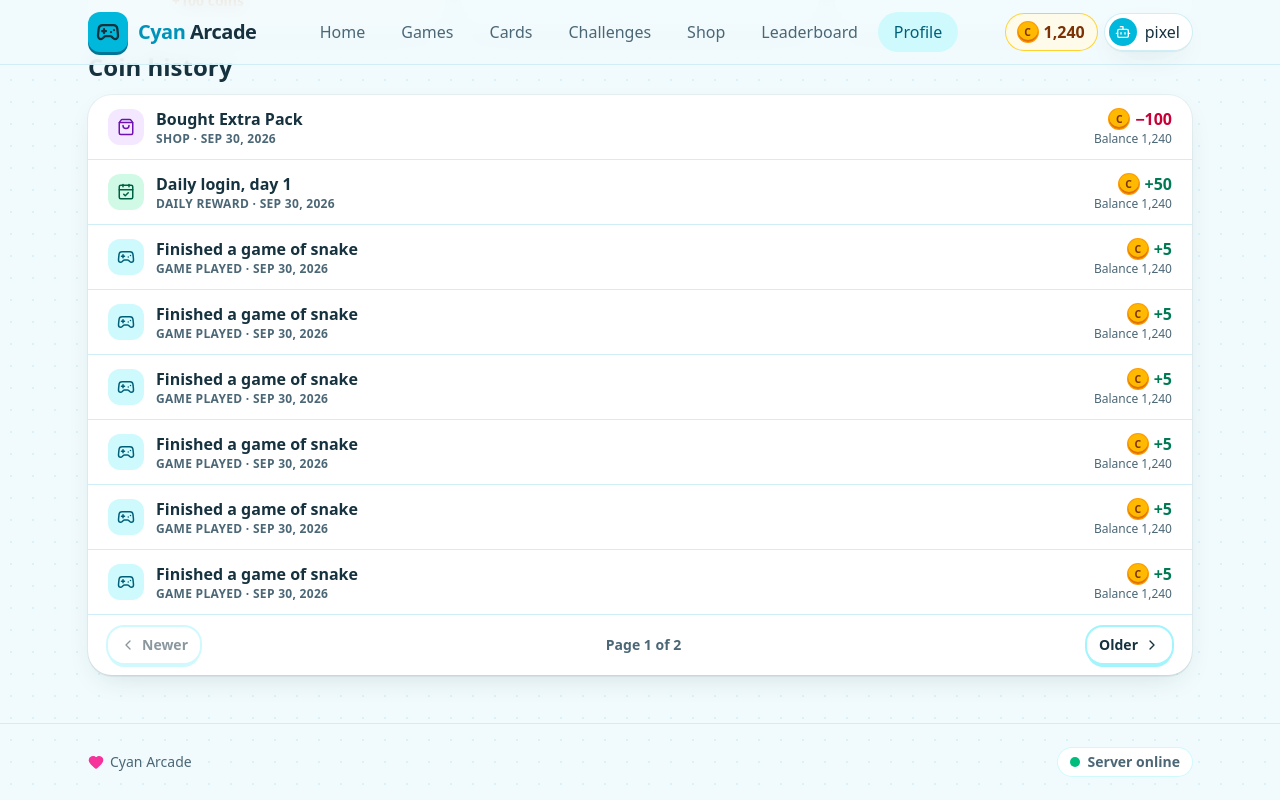
it: the profile, with the platform › lists coins earned and spent, newest first, a page at a time
(page scrolled)
Check: the list item "Bought Extra Pack Shop · Sep 30, 2026 C −100 Balance 1,240" is shown, box x1=88 y1=95 x2=1192 y2=160
Check: the list item that starts with "Daily login, day 1" shows "Daily reward", box x1=156 y1=195 x2=249 y2=212
Click the button "Older": x=1130, y=645 x1=1087 y1=627 x2=1172 y2=663
(page scrolled)
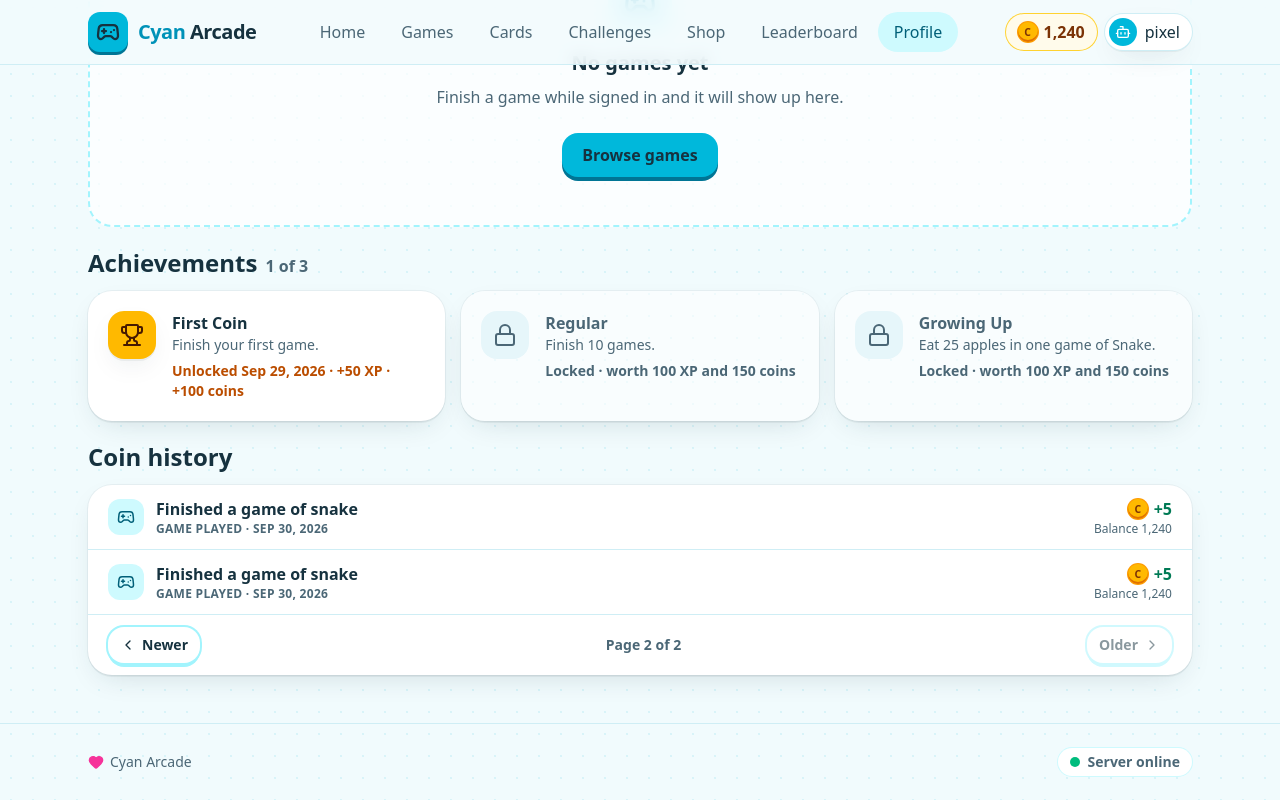
Check: the text "Page 2 of 2" is shown, box x1=606 y1=635 x2=681 y2=655
